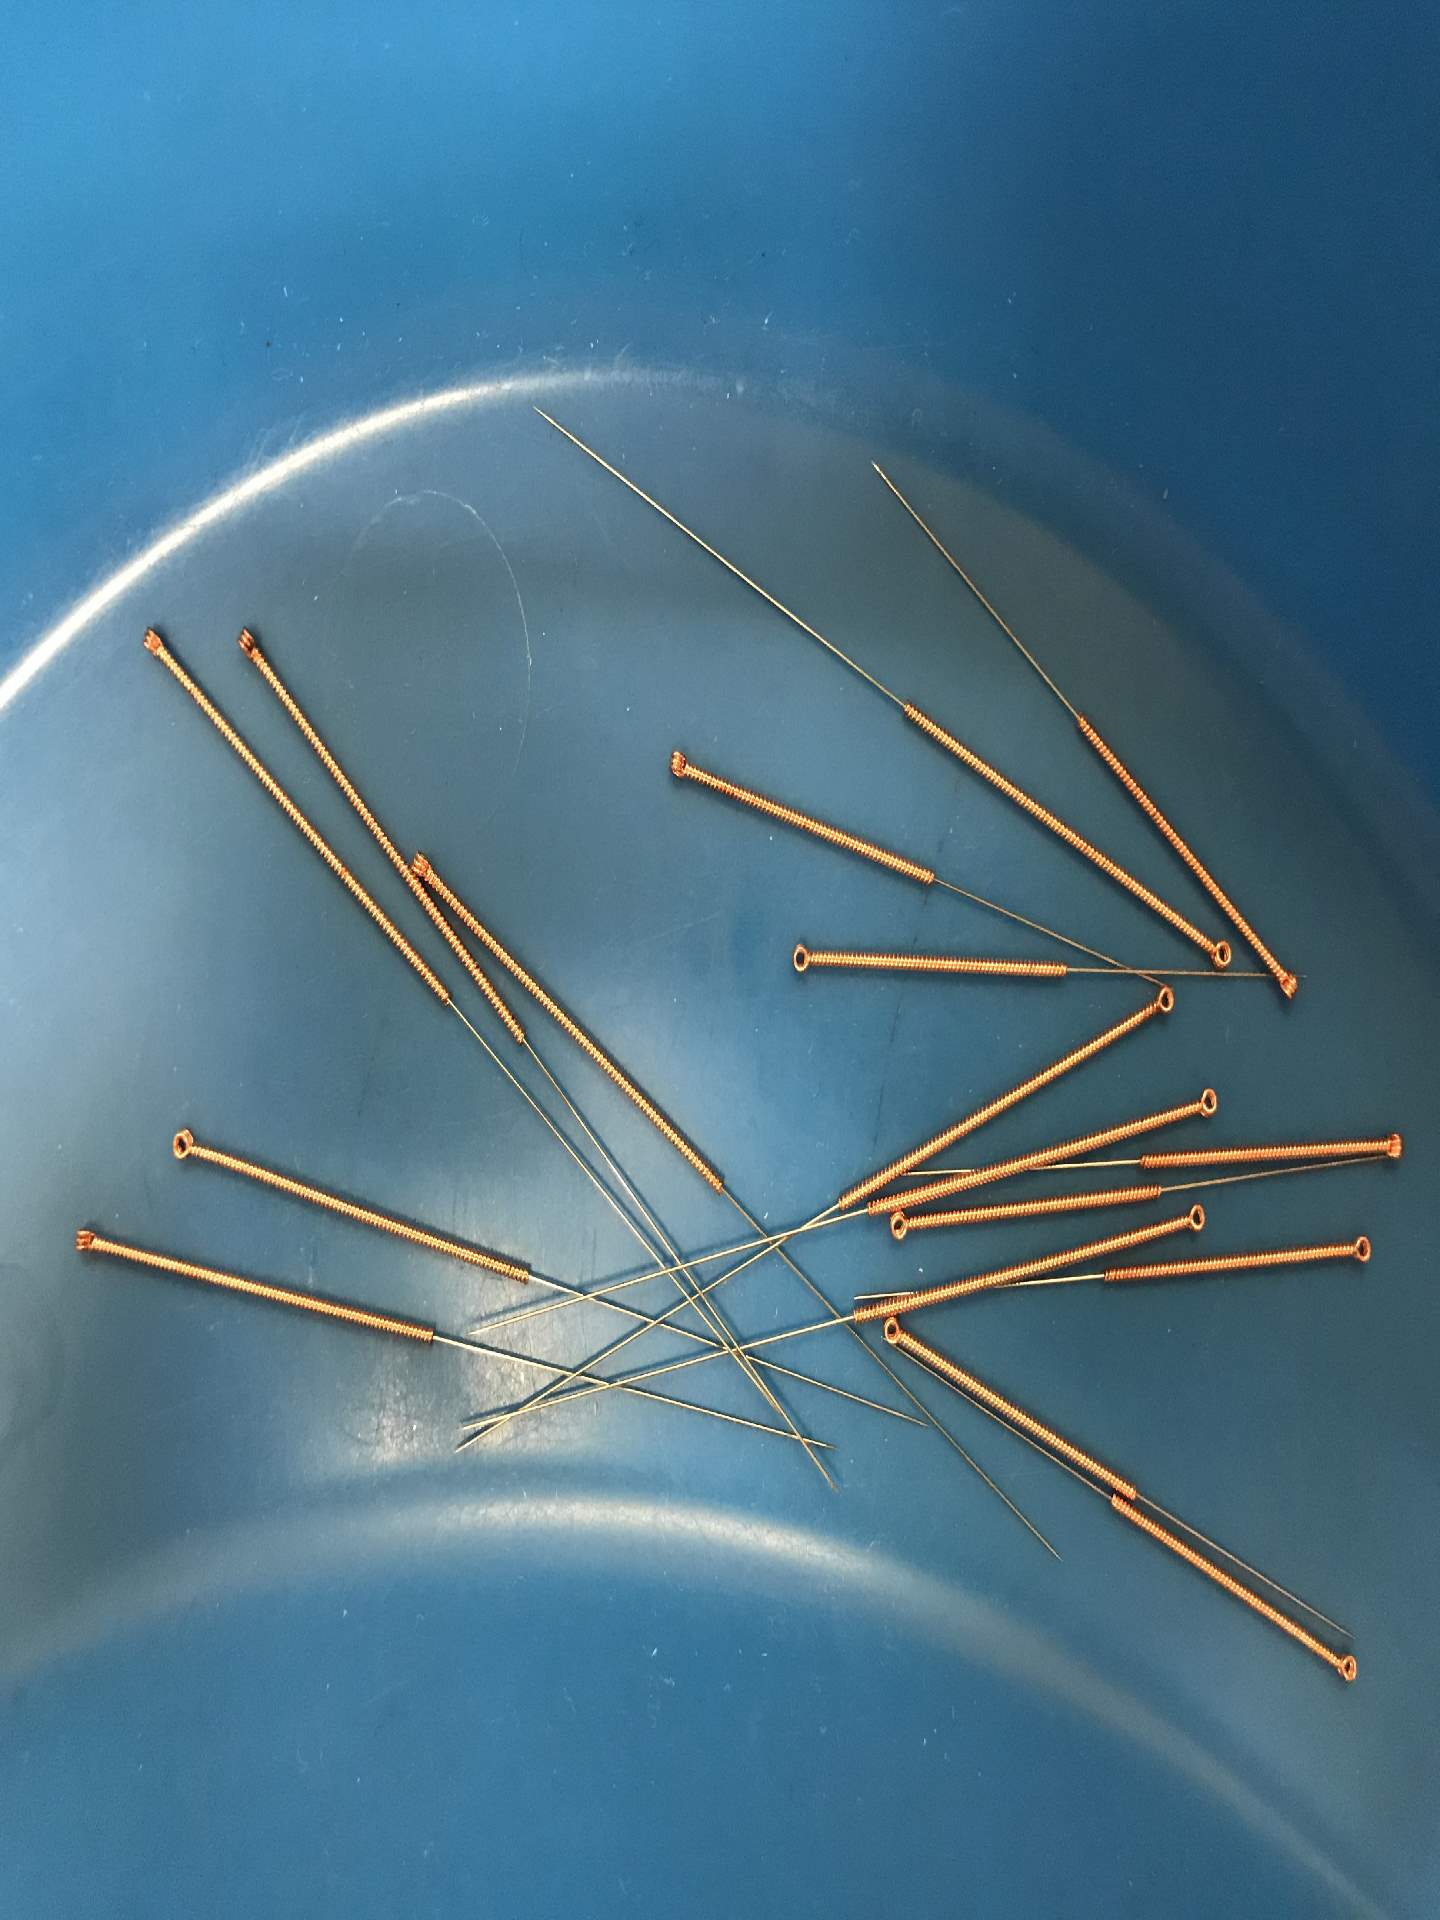needle: (650, 736, 703, 792), (1330, 1223, 1386, 1274), (156, 1120, 209, 1173), (127, 614, 175, 671), (1262, 951, 1307, 1011), (1321, 1643, 1370, 1695), (62, 1217, 110, 1270), (777, 931, 823, 986), (1193, 931, 1239, 981), (1181, 1078, 1227, 1128), (870, 1312, 920, 1358), (1364, 1123, 1413, 1169), (225, 618, 266, 671), (874, 1206, 926, 1247), (1172, 1196, 1216, 1240), (1142, 978, 1180, 1027), (408, 847, 440, 889)
